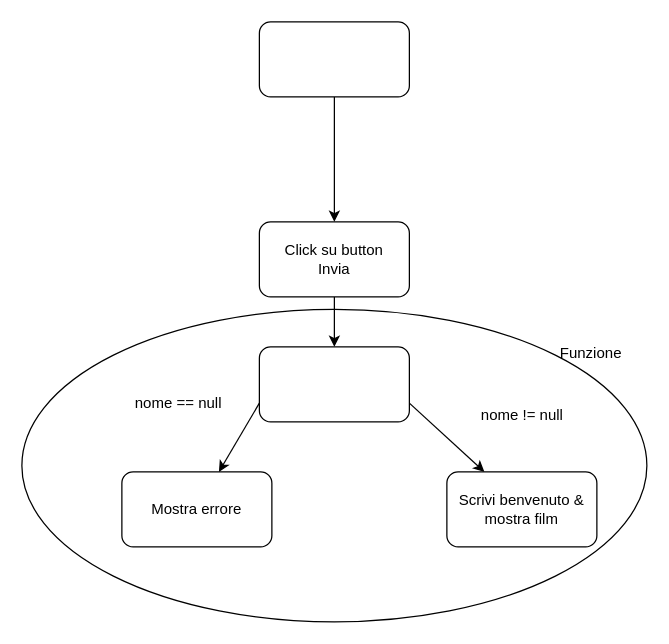
This 669x644 diagram has some shape labels left out. Each missing label, with the centre of its shape:
Acquisici nome: pixel 333 384
Utente digita il nome: pixel 333 59
